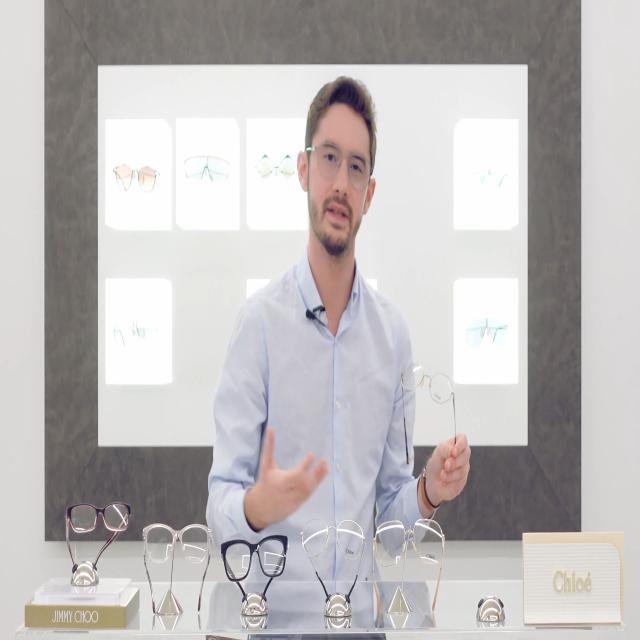dress: (207, 245, 438, 580)
glasses: (375, 516, 445, 570), (223, 534, 287, 586), (142, 520, 211, 564), (302, 512, 362, 558), (317, 139, 371, 188), (399, 361, 456, 406), (67, 496, 131, 536), (112, 160, 156, 196), (182, 153, 226, 188)
